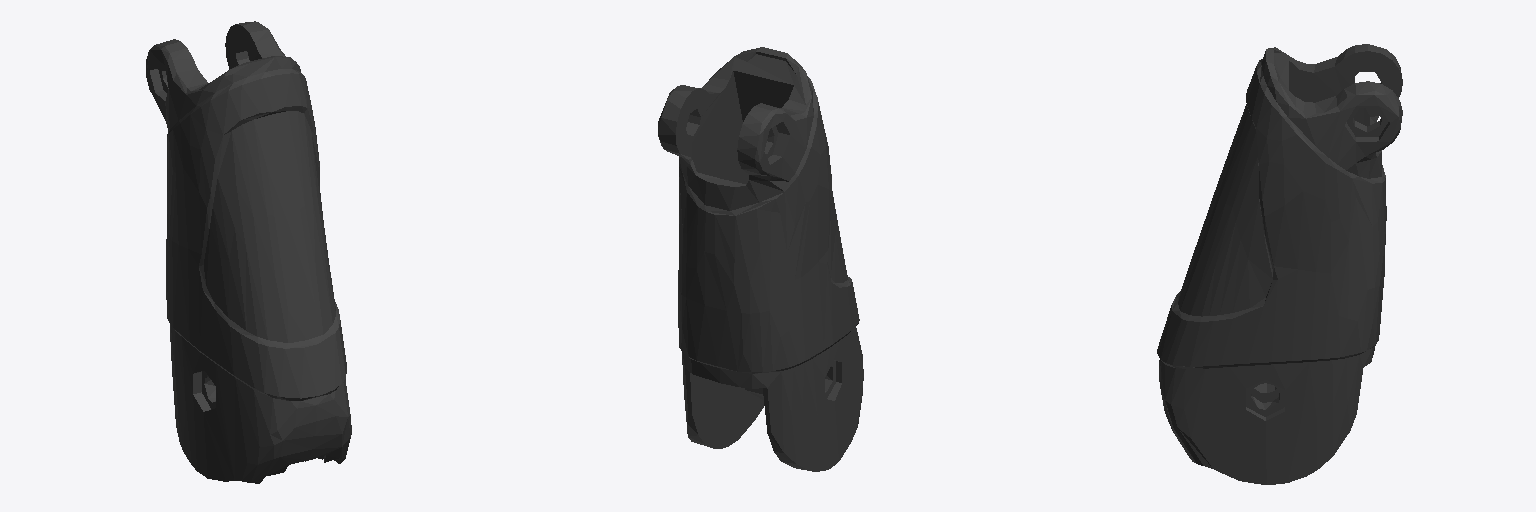
The model's file is L_index_proximal.obj.
The picture shows the model from 3 angles: view 1: azimuth 30°, elevation 25°; view 2: azimuth 150°, elevation 25°; view 3: azimuth 270°, elevation 25°; orthographic projection.
Bounding box in the file's own units: 0.0143 × 0.0448 × 0.0249.